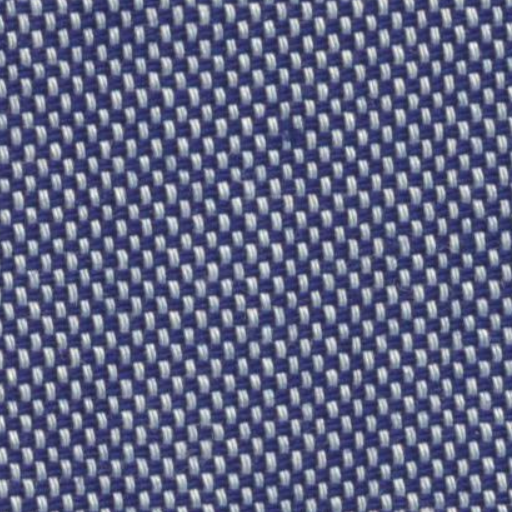MianQiu: (276, 118, 320, 154)
